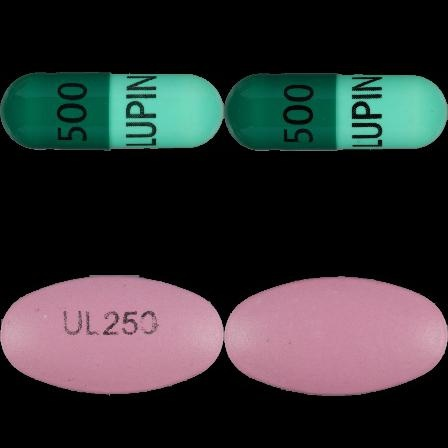53808-0939: (0, 0, 224, 224)
